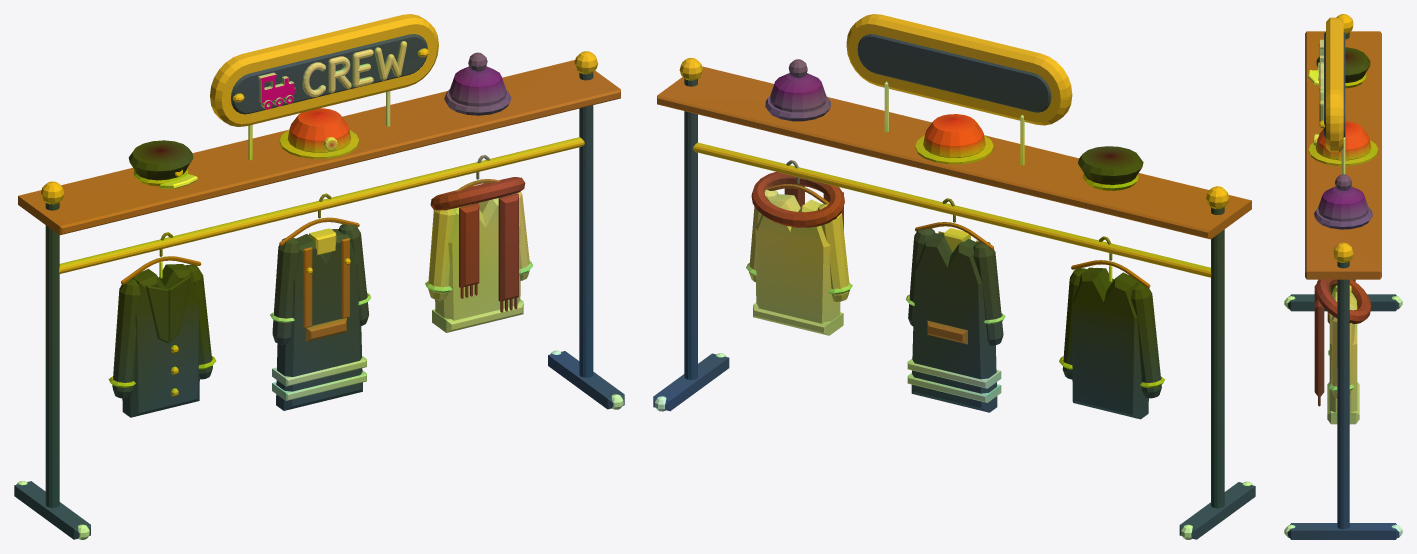
File: Prop_CrewWardrobe.fbx
3 views of the same model, side by side, from view 1: azimuth 30°, elevation 25°; view 2: azimuth 150°, elevation 25°; view 3: azimuth 270°, elevation 25° (orthographic). The views are drawn at different scales.
Visible parts, largest first — view 1: Rack, Outfit_Engineer, Outfit_Stoker, Outfit_Conductor; view 2: Rack, Outfit_Engineer, Outfit_Stoker, Outfit_Conductor; view 3: Rack, Outfit_Stoker.
Boxes of the visible parts, bbox=[...] form: Rack: bbox=[14, 14, 624, 539]; Outfit_Engineer: bbox=[270, 193, 371, 410]; Outfit_Stoker: bbox=[425, 155, 532, 332]; Outfit_Conductor: bbox=[108, 232, 216, 417]; Rack: bbox=[653, 14, 1255, 539]; Outfit_Engineer: bbox=[905, 198, 1005, 412]; Outfit_Stoker: bbox=[746, 160, 852, 335]; Outfit_Conductor: bbox=[1059, 236, 1165, 419]; Rack: bbox=[1284, 14, 1402, 539]; Outfit_Stoker: bbox=[1314, 279, 1370, 424].
Size of the model in its own units: 3.26 by 2.33 by 0.6761.
